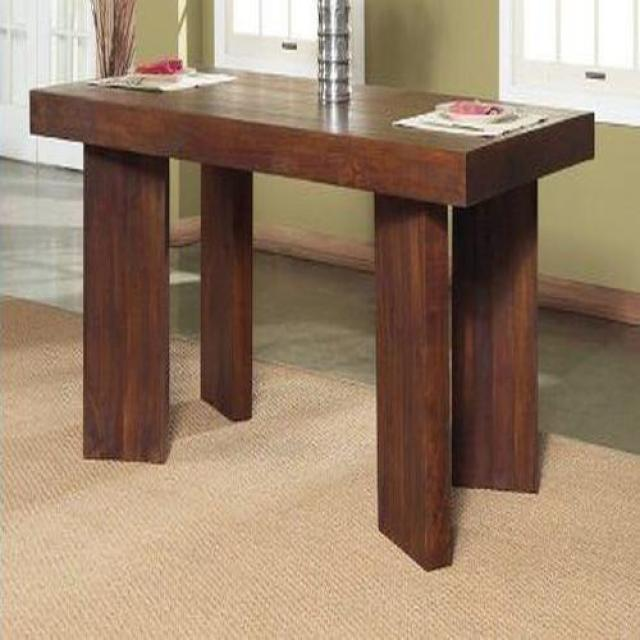table: (29, 76, 595, 573)
